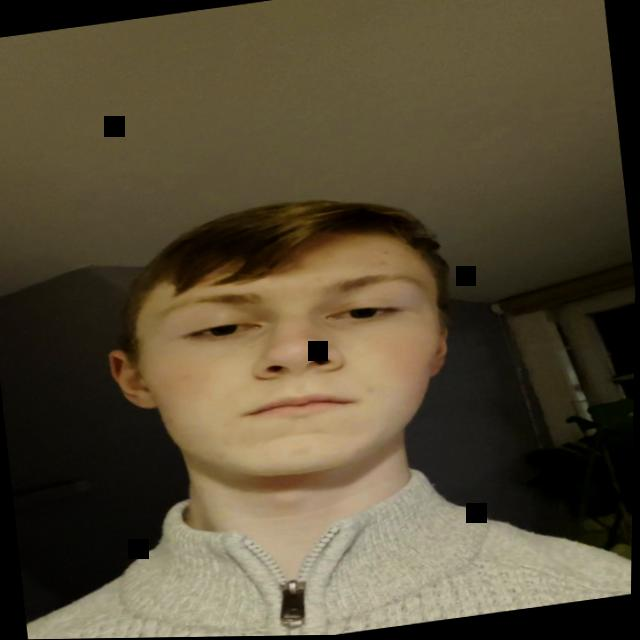NO-Mask: (103, 181, 483, 537)
